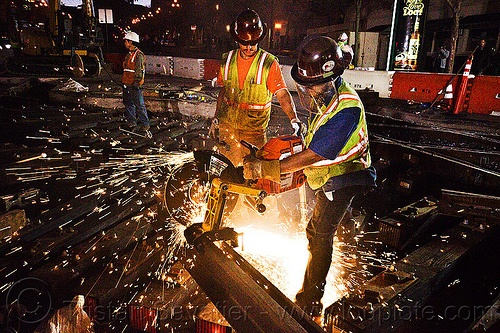red: (293, 36, 346, 102), (232, 8, 265, 53)
white: (122, 32, 140, 50)
